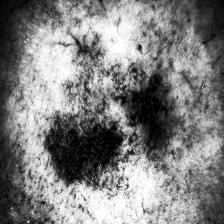Benign Marking or Mole: (46, 55, 189, 185)
